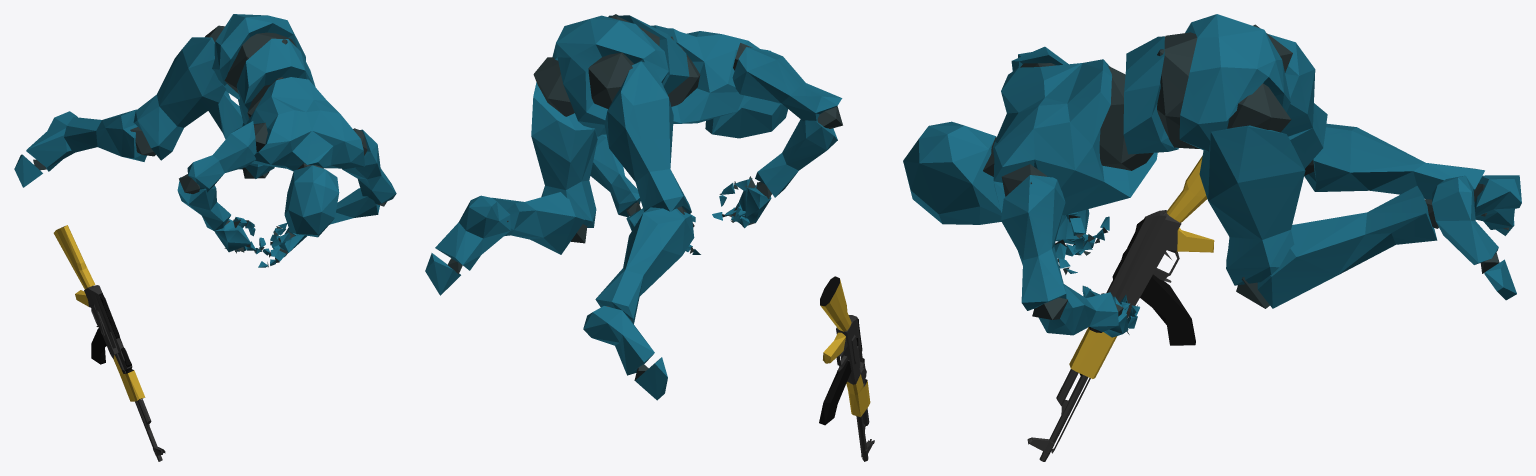
File: EnemyDying_000052.obj
3 renders of one model, left to right at view 1: azimuth 30°, elevation 25°; view 2: azimuth 150°, elevation 25°; view 3: azimuth 270°, elevation 25°, orthographic. The views are drawn at different scales.
Visible parts, largest first — view 1: Alpha_Surface, AK-47_Cube, Alpha_Joints; view 2: Alpha_Surface, Alpha_Joints, AK-47_Cube; view 3: Alpha_Surface, AK-47_Cube, Alpha_Joints.
Part boxes in pixels (x1,y1,x2,y2): Alpha_Surface: [14, 14, 396, 267]; AK-47_Cube: [53, 225, 165, 461]; Alpha_Joints: [33, 25, 386, 267]; Alpha_Surface: [425, 15, 842, 400]; Alpha_Joints: [447, 14, 842, 380]; AK-47_Cube: [819, 276, 874, 461]; Alpha_Surface: [903, 14, 1521, 337]; AK-47_Cube: [1027, 156, 1214, 461]; Alpha_Joints: [983, 24, 1509, 334].
Size of the model in its own units: 209 by 266 by 270.
